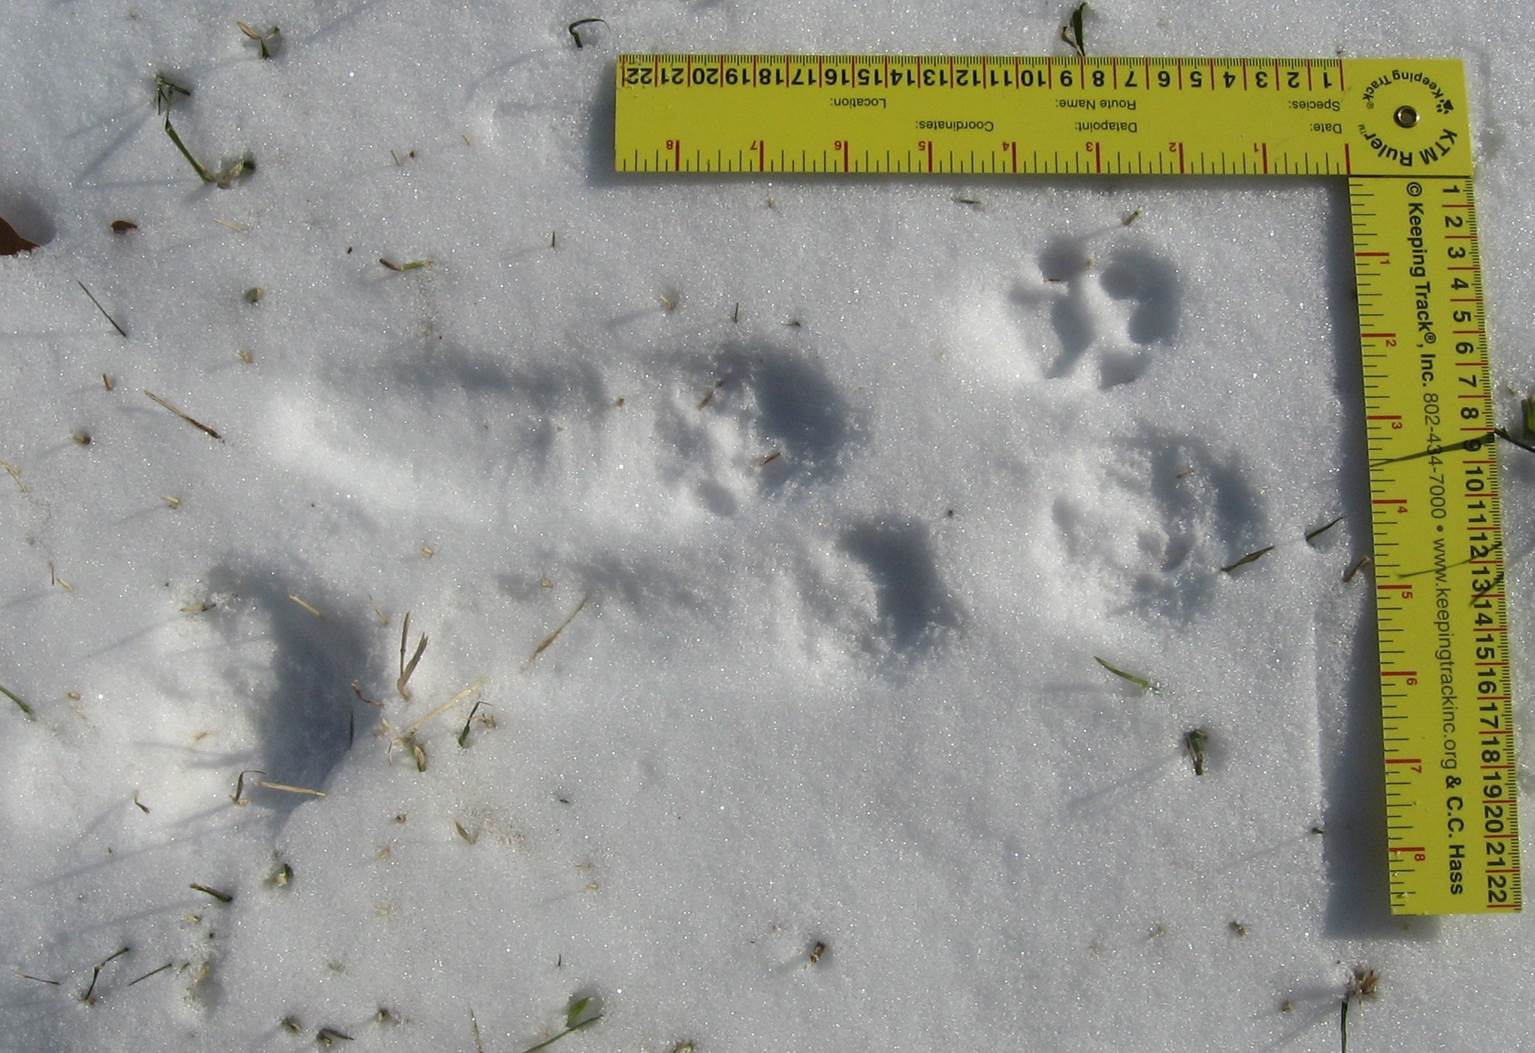cat: (632, 337, 843, 529), (996, 232, 1193, 387)
